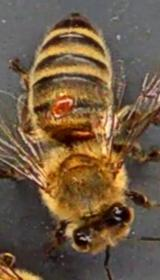varroa_mite: (49, 90, 78, 121)
